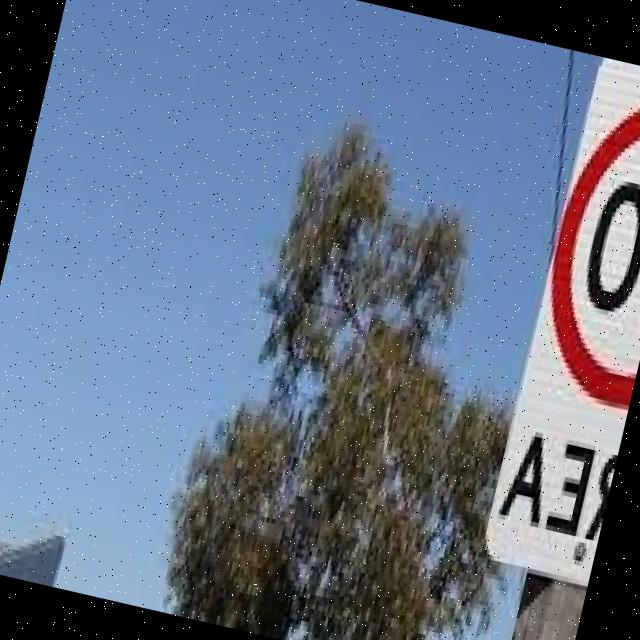speed_limit_30: (514, 67, 640, 409)
